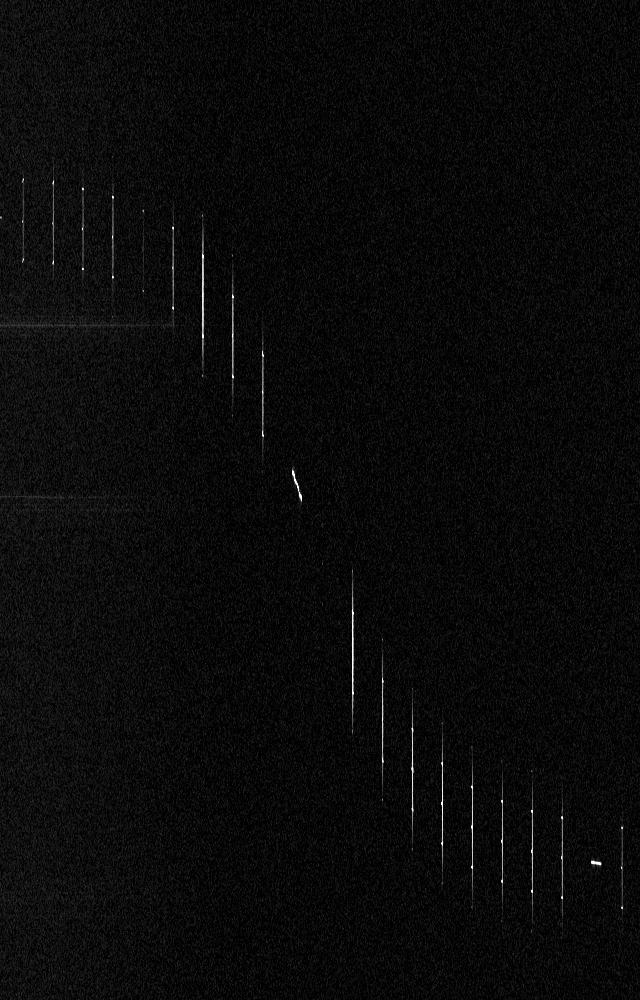signal: (0, 0, 639, 999)
